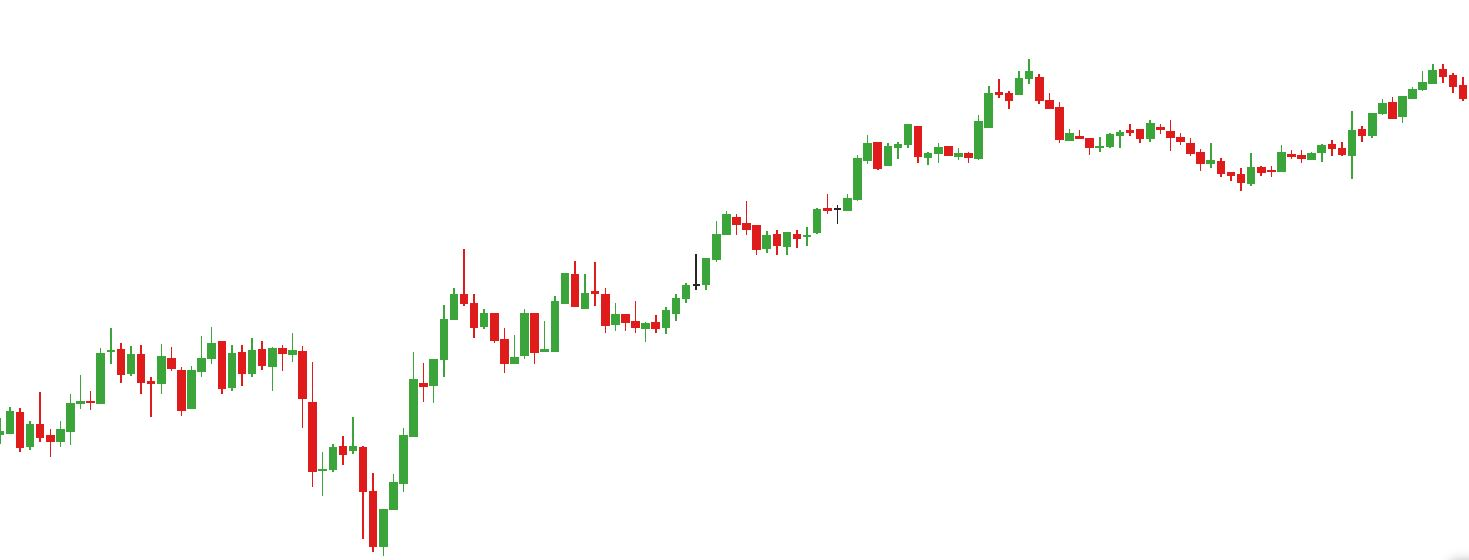buy: (304, 432, 402, 560)
sell: (157, 321, 228, 403)
